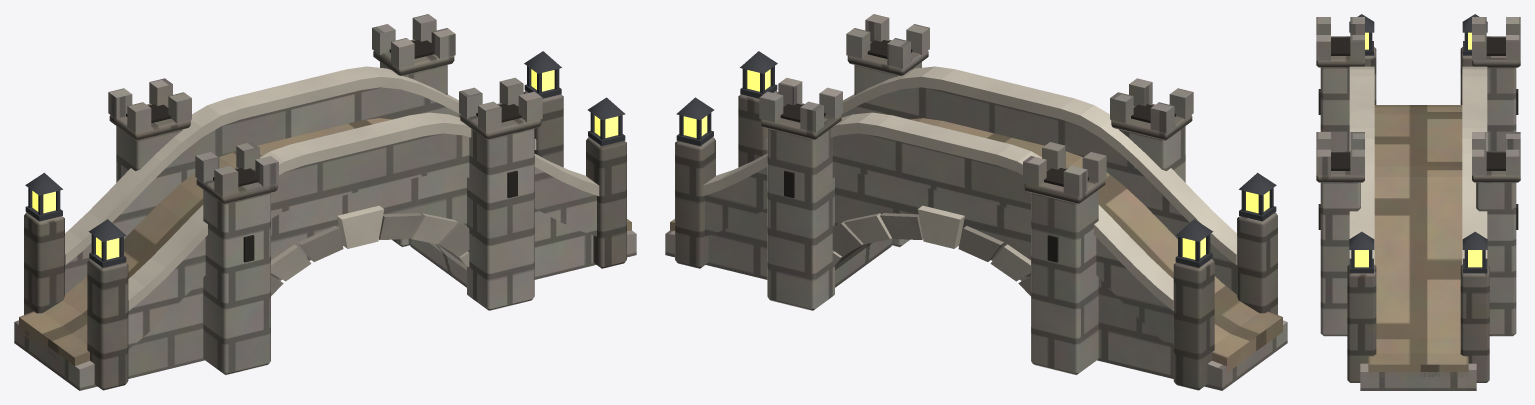
The model's file is bridge.glb.
3 renders of one model, left to right at view 1: azimuth 30°, elevation 25°; view 2: azimuth 150°, elevation 25°; view 3: azimuth 270°, elevation 25°, orthographic. The views are drawn at different scales.
Visible parts, largest first — view 1: span; view 2: span; view 3: span.
Part boxes in pixels (x1=…): span: x1=14, y1=14, x2=636, y2=390; span: x1=665, y1=14, x2=1287, y2=390; span: x1=1316, y1=14, x2=1520, y2=390.
Bounding box in the file's own units: 0.71 × 0.249 × 0.252.
3 materials, 1 textured.
